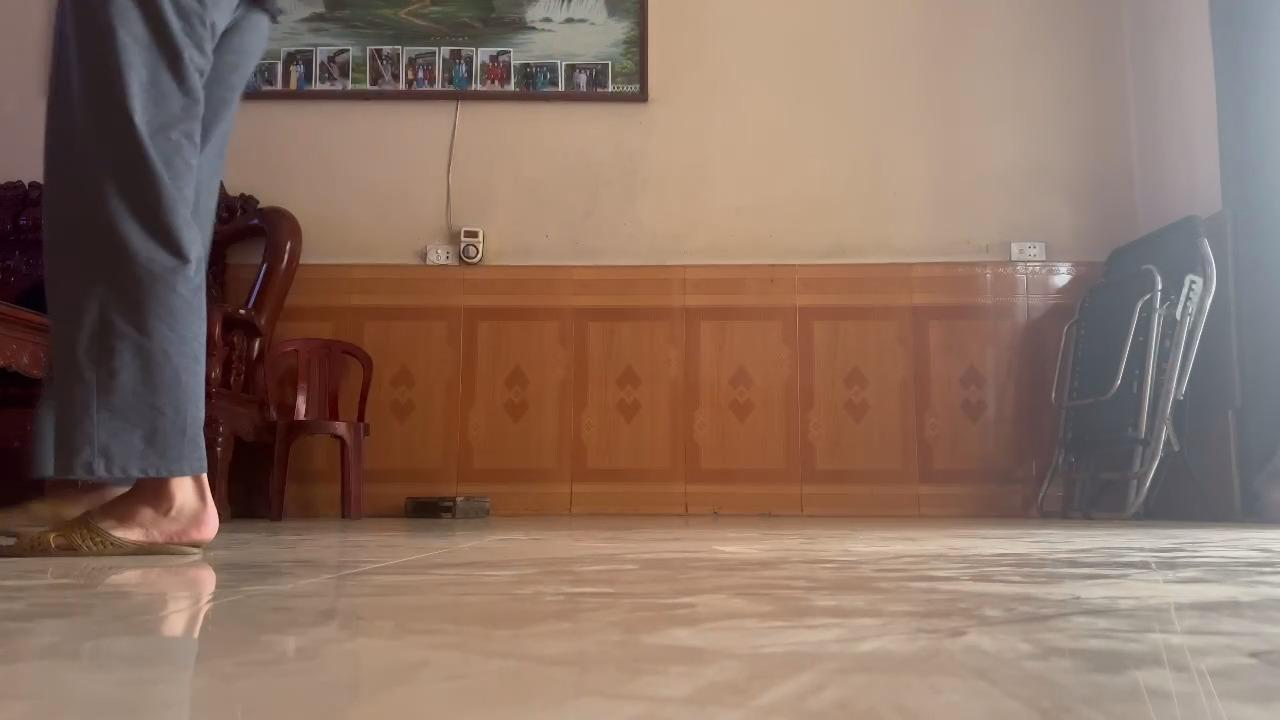no-boot: (0, 482, 232, 575)
